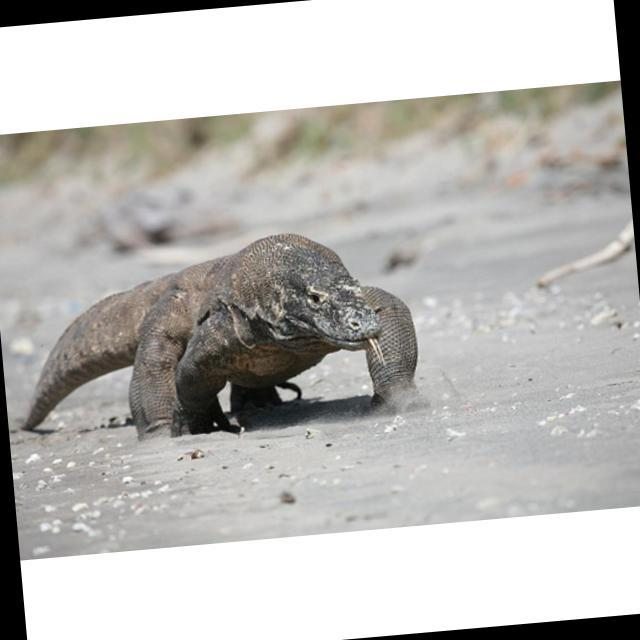KomodoDragon: (8, 220, 427, 449)
